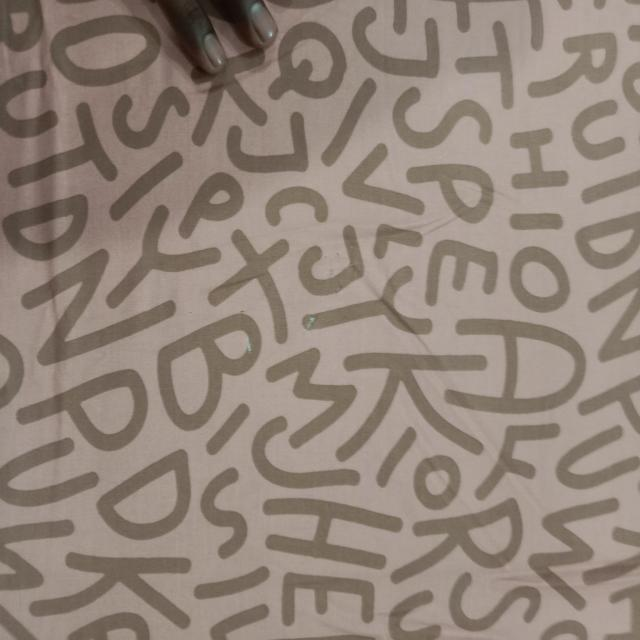cut: (238, 322, 258, 362), (302, 307, 326, 338)
